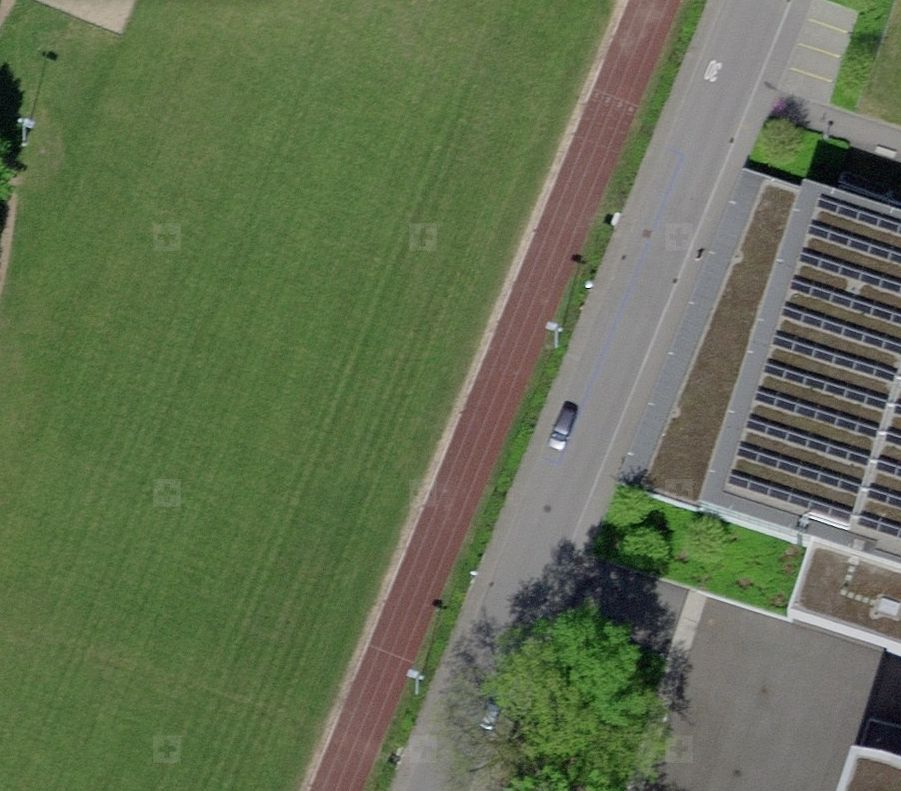solar: (723, 191, 901, 547)
